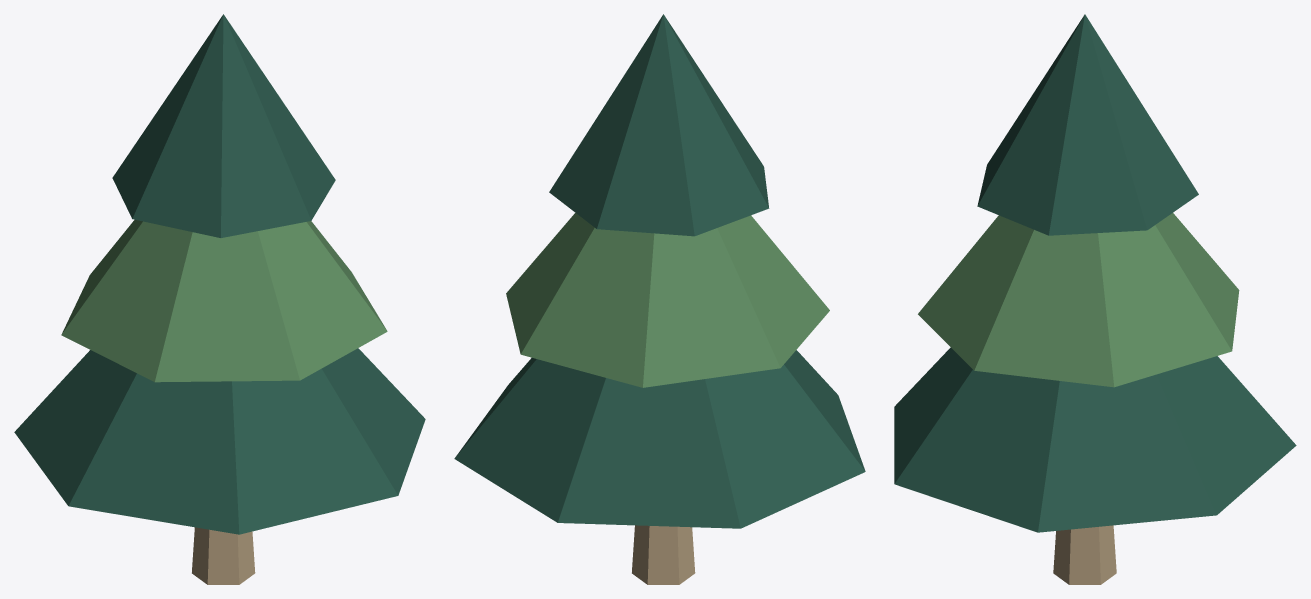
Rendered from pine_tree.glb.
The picture shows the model from 3 angles, left to right: view 1: azimuth 30°, elevation 25°; view 2: azimuth 150°, elevation 25°; view 3: azimuth 270°, elevation 25°; orthographic projection.
Parts seen in each view (by area): view 1: Tier0, Tier1, Tier2, Trunk; view 2: Tier0, Tier1, Tier2, Trunk; view 3: Tier0, Tier1, Tier2, Trunk.
Boxes of the visible parts, x1=… form: Tier0: x1=14, y1=348, x2=425, y2=534; Tier1: x1=61, y1=219, x2=387, y2=382; Tier2: x1=112, y1=14, x2=335, y2=237; Trunk: x1=192, y1=527, x2=255, y2=584; Tier0: x1=454, y1=350, x2=865, y2=528; Tier1: x1=506, y1=213, x2=829, y2=387; Tier2: x1=549, y1=14, x2=769, y2=236; Trunk: x1=632, y1=525, x2=695, y2=584; Tier0: x1=894, y1=347, x2=1296, y2=532; Tier1: x1=918, y1=213, x2=1239, y2=387; Tier2: x1=977, y1=14, x2=1198, y2=235; Trunk: x1=1053, y1=525, x2=1116, y2=584.
Size of the model in its own units: 2.34 by 3.5 by 2.28.
